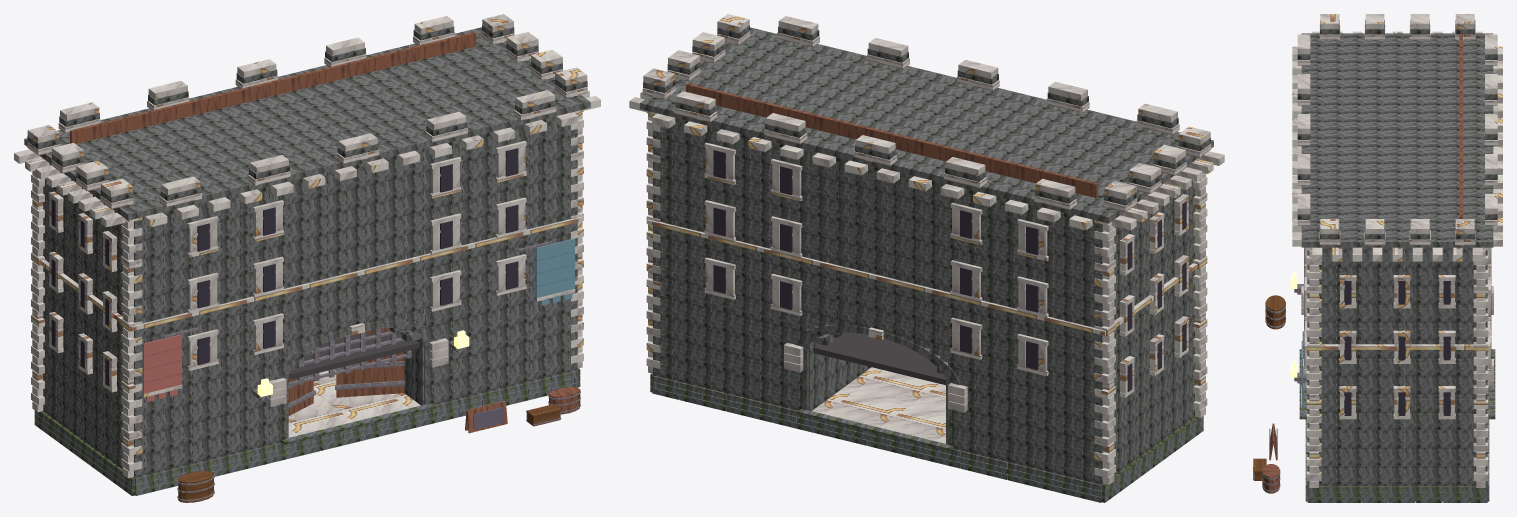
The model's file is karta.glb.
3 renders of one model, left to right at view 1: azimuth 30°, elevation 25°; view 2: azimuth 150°, elevation 25°; view 3: azimuth 270°, elevation 25°, orthographic. The views are drawn at different scales.
Parts seen in each view (by area): view 1: karta_mur_grå, karta_puts, karta_mörkt_virke, karta_fot_sten, karta_glas_mörkt, karta_järn, karta_tyg_blått, karta_tyg_rött, karta_sot, karta_sten, karta_ljust_virke; view 2: karta_mur_grå, karta_puts, karta_fot_sten, karta_mörkt_virke, karta_glas_mörkt, karta_sot, karta_sten; view 3: karta_mur_grå, karta_puts, karta_fot_sten, karta_glas_mörkt, karta_mörkt_virke, karta_ljust_virke, karta_sten, karta_järn, karta_sockel.
Part boxes in pixels (x1,y1,x2,y2): karta_mur_grå: (24, 25, 590, 477); karta_puts: (14, 14, 600, 478); karta_mörkt_virke: (70, 32, 580, 433); karta_fot_sten: (34, 368, 580, 495); karta_glas_mörkt: (51, 148, 517, 386); karta_järn: (163, 241, 580, 501); karta_tyg_blått: (535, 238, 574, 305); karta_tyg_rött: (143, 334, 181, 401); karta_sot: (288, 332, 419, 379); karta_sten: (281, 344, 435, 444); karta_ljust_virke: (178, 404, 561, 502); karta_mur_grå: (640, 25, 1213, 484); karta_puts: (629, 14, 1224, 484); karta_fot_sten: (650, 373, 1203, 502); karta_mörkt_virke: (686, 83, 1098, 197); karta_glas_mörkt: (713, 150, 1186, 391); karta_sot: (813, 332, 945, 385); karta_sten: (797, 349, 953, 451); karta_mur_grå: (1297, 19, 1497, 485); karta_puts: (1292, 14, 1502, 487); karta_fot_sten: (1305, 419, 1489, 502); karta_glas_mörkt: (1304, 248, 1491, 415); karta_mörkt_virke: (1262, 34, 1462, 493); karta_ljust_virke: (1253, 295, 1285, 480); karta_sten: (1299, 349, 1495, 419); karta_järn: (1253, 284, 1307, 492); karta_sockel: (1307, 481, 1487, 501).
Bounding box in the file's own units: 19.9 × 11.66 × 9.41.
Materials: 13 (9 with a texture image).
